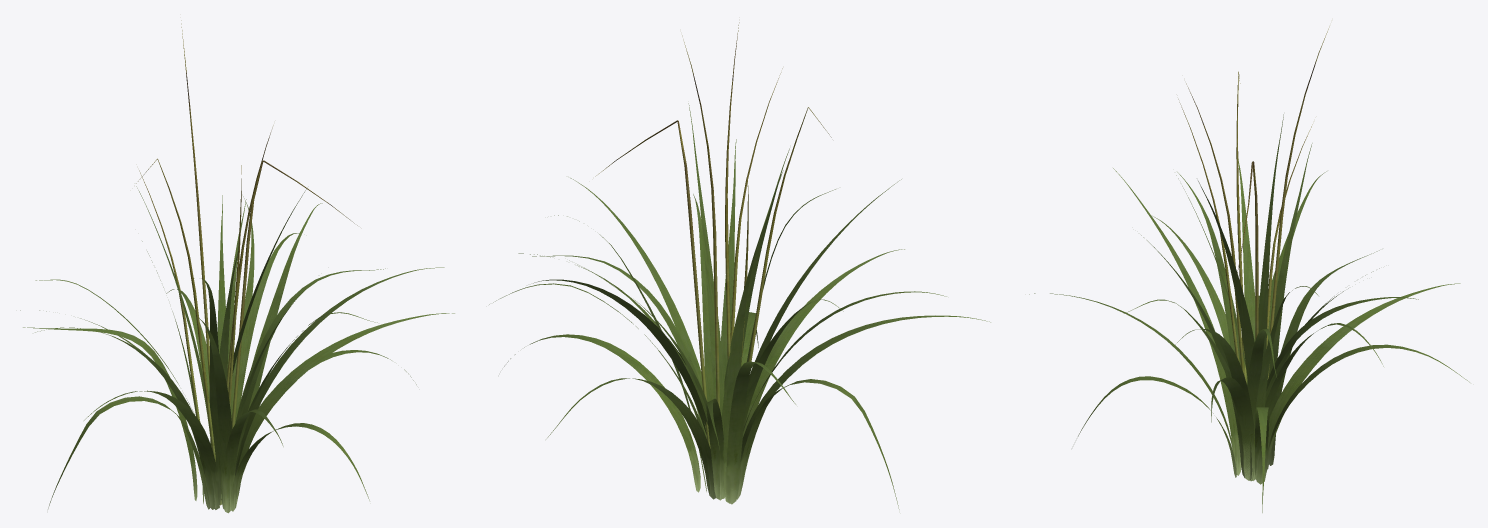
Rendered from grass.fbx.
The picture shows the model from 3 angles, left to right: view 1: azimuth 30°, elevation 25°; view 2: azimuth 150°, elevation 25°; view 3: azimuth 270°, elevation 25°; orthographic projection. The views are drawn at different scales.
Parts seen in each view (by area): view 1: Part_1, Part_2; view 2: Part_1, Part_2; view 3: Part_1, Part_2.
Part boxes in pixels (x1,y1,x2,y2): Part_1: (20,186,454,513); Part_2: (136,20,357,505); Part_1: (489,103,990,509); Part_2: (595,22,831,448); Part_1: (1029,114,1469,512); Part_2: (1178,26,1329,383).
Bounding box in the file's own units: 34.63 × 36.97 × 32.72.
